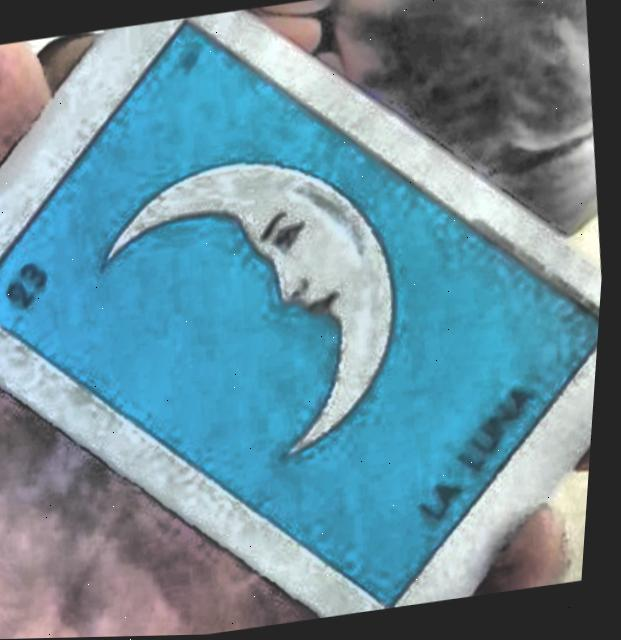La Luna: (0, 24, 603, 609)
